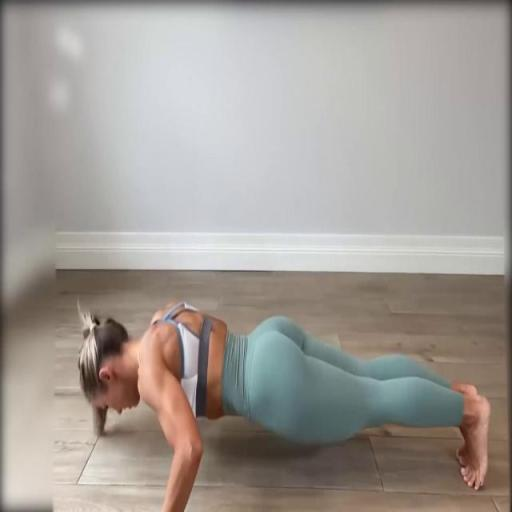Normal_BrenchPress: (76, 302, 492, 510)
